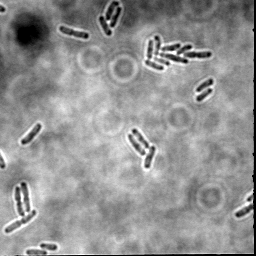Dividing: (3, 209, 37, 235), (57, 24, 90, 41), (12, 186, 25, 217), (19, 181, 31, 214)
Microcolony: (144, 34, 214, 72)
Rod: (19, 122, 42, 146), (127, 132, 145, 157), (131, 128, 150, 150), (142, 144, 157, 170), (97, 15, 114, 37), (108, 6, 123, 29), (194, 77, 214, 93), (104, 0, 119, 21), (195, 87, 214, 103), (39, 241, 59, 252), (25, 248, 48, 255)
